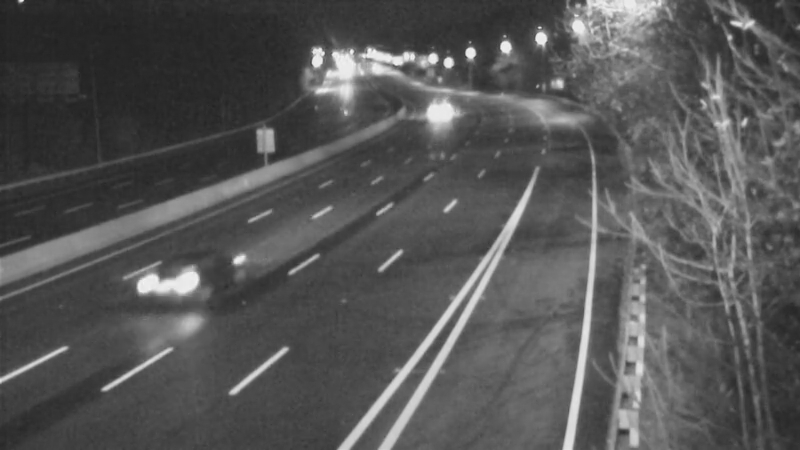vehicle: (137, 241, 217, 321), (402, 85, 452, 135)
